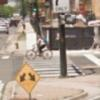bicycles: (26, 43, 63, 79)
